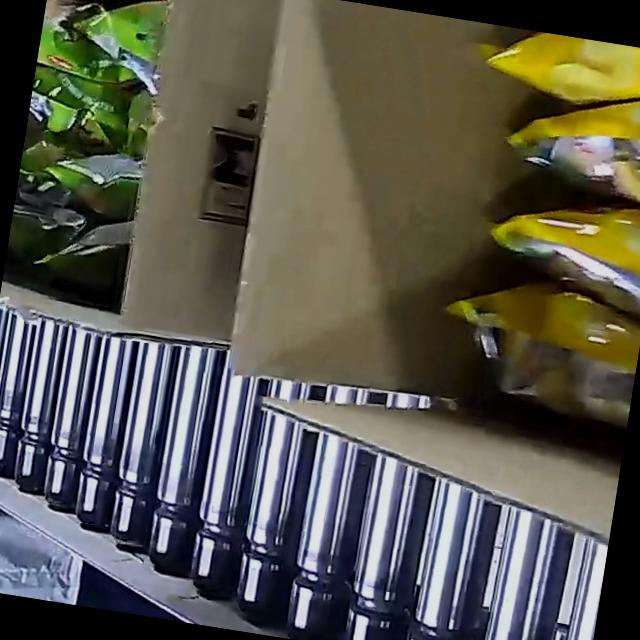salted: (365, 13, 640, 442)
yogurt: (5, 0, 173, 279)
